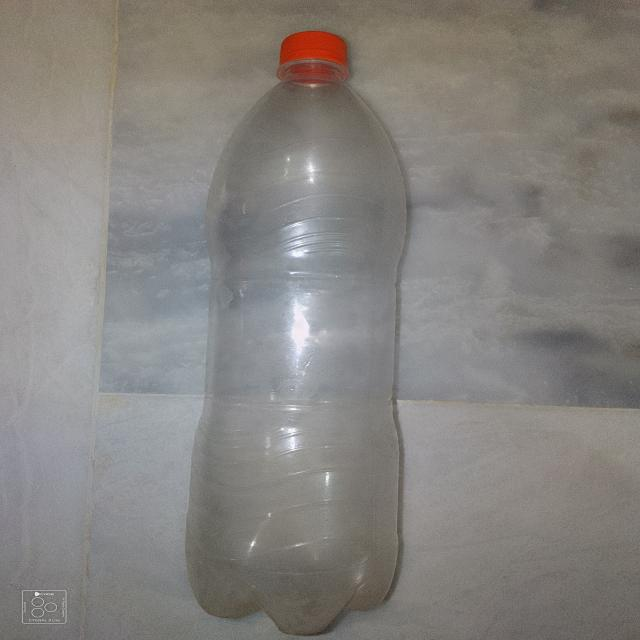bottle: (184, 24, 413, 640)
cap: (271, 28, 360, 78)
